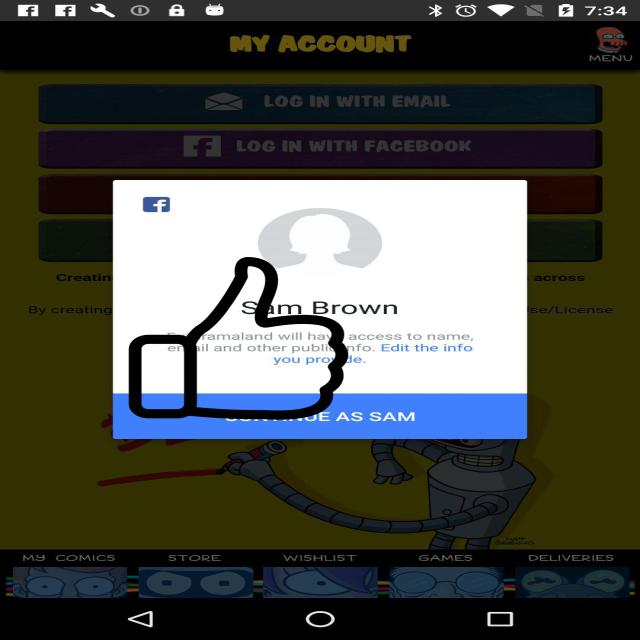privacy zuckering: (126, 257, 352, 420)
